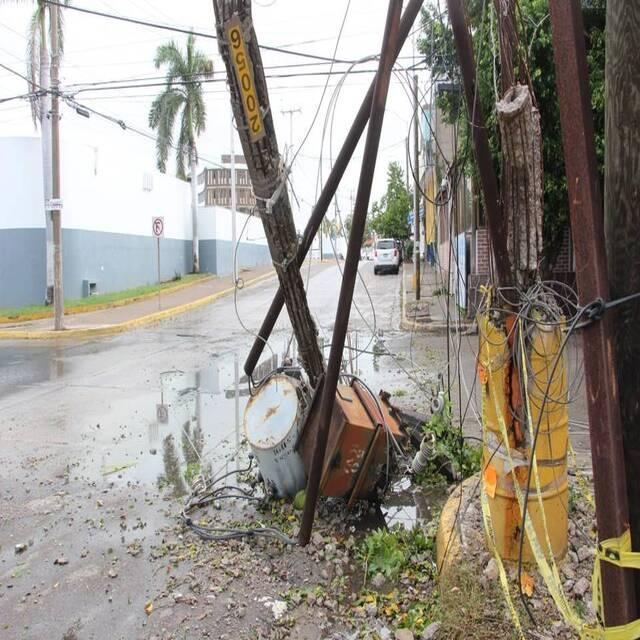Inclined Pole: (187, 2, 415, 547)
